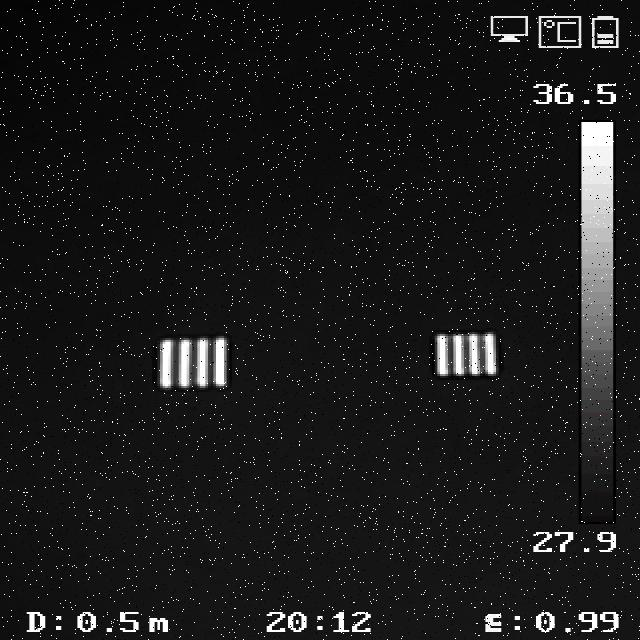Distinguishable 4-bar target: (160, 338, 227, 386), (432, 332, 500, 377)
